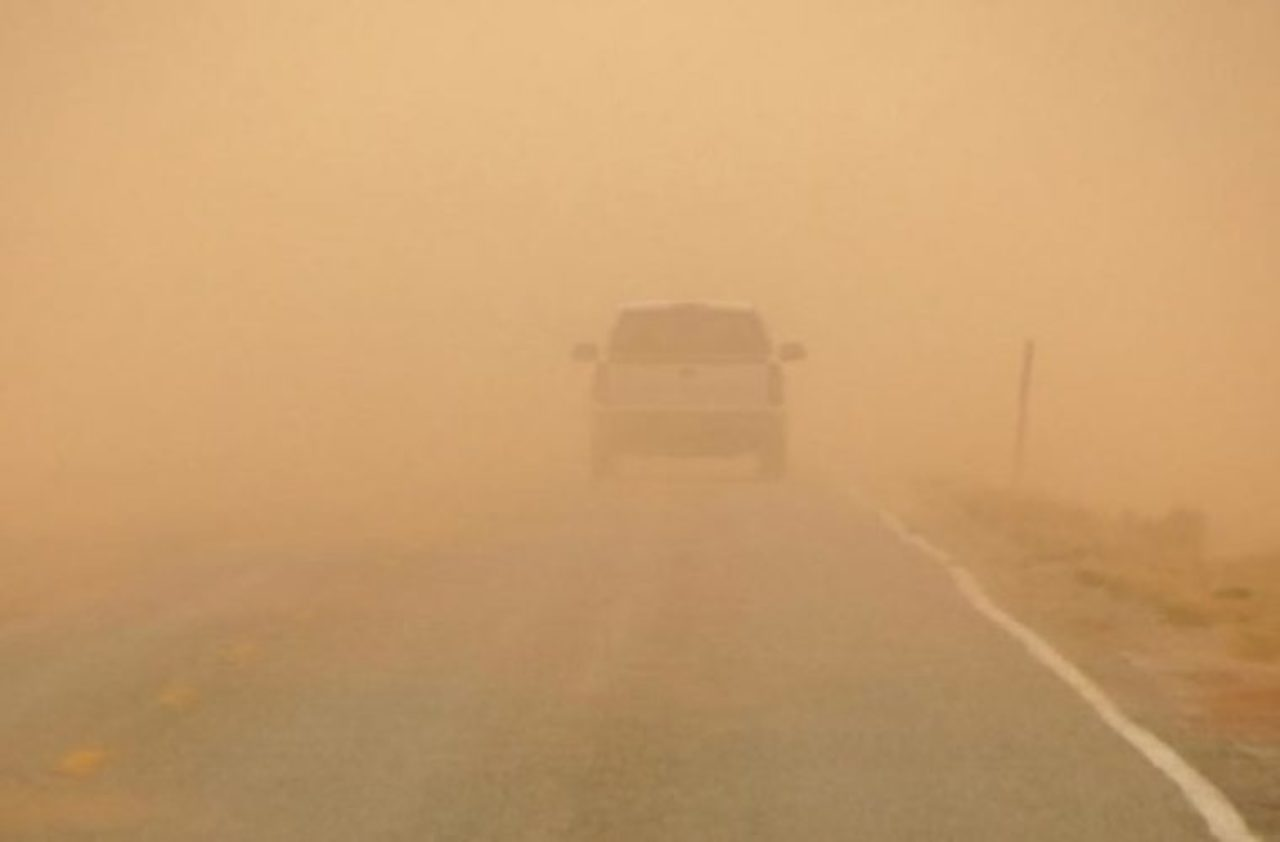car: (576, 297, 806, 476)
